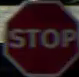Stop: (4, 2, 76, 75)
